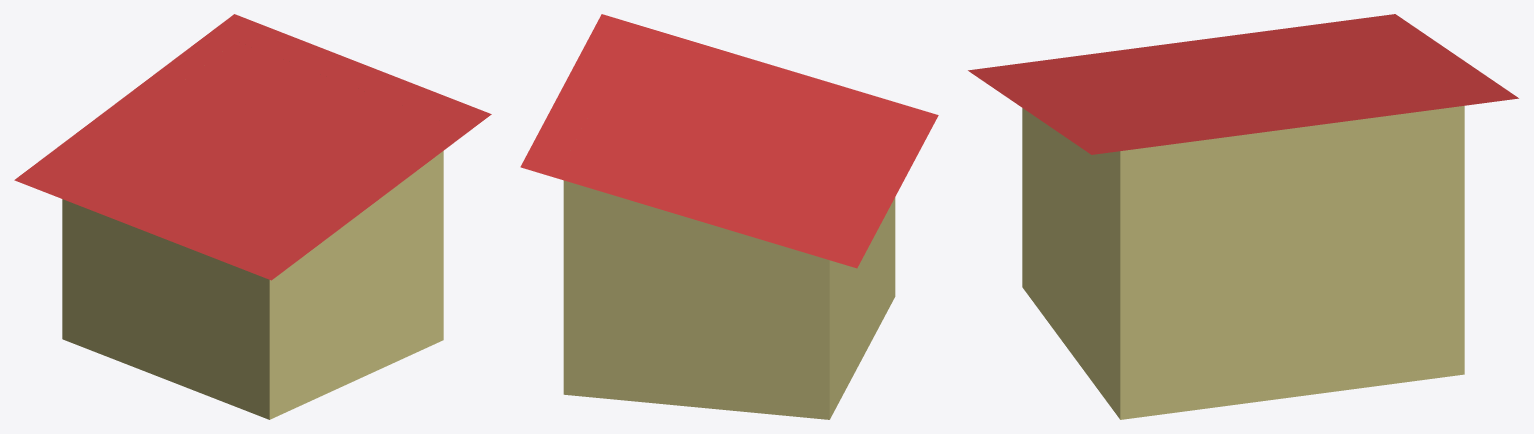
The picture shows the model from 3 angles, left to right: view 1: azimuth 30°, elevation 25°; view 2: azimuth 150°, elevation 25°; view 3: azimuth 270°, elevation 25°; orthographic projection. The views are drawn at different scales.
Bounding box in the file's own units: 12.12 × 12.6 × 7.26.
